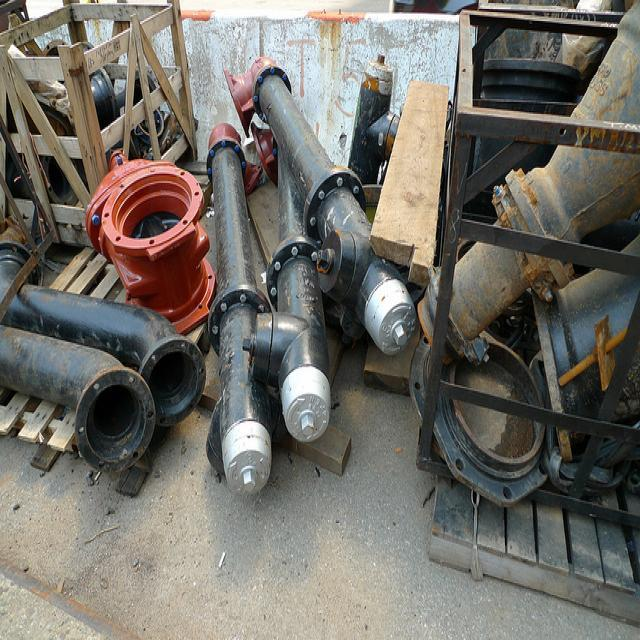fire_hydrant: (225, 52, 420, 362), (239, 144, 331, 447), (205, 121, 276, 496), (348, 51, 399, 183)
